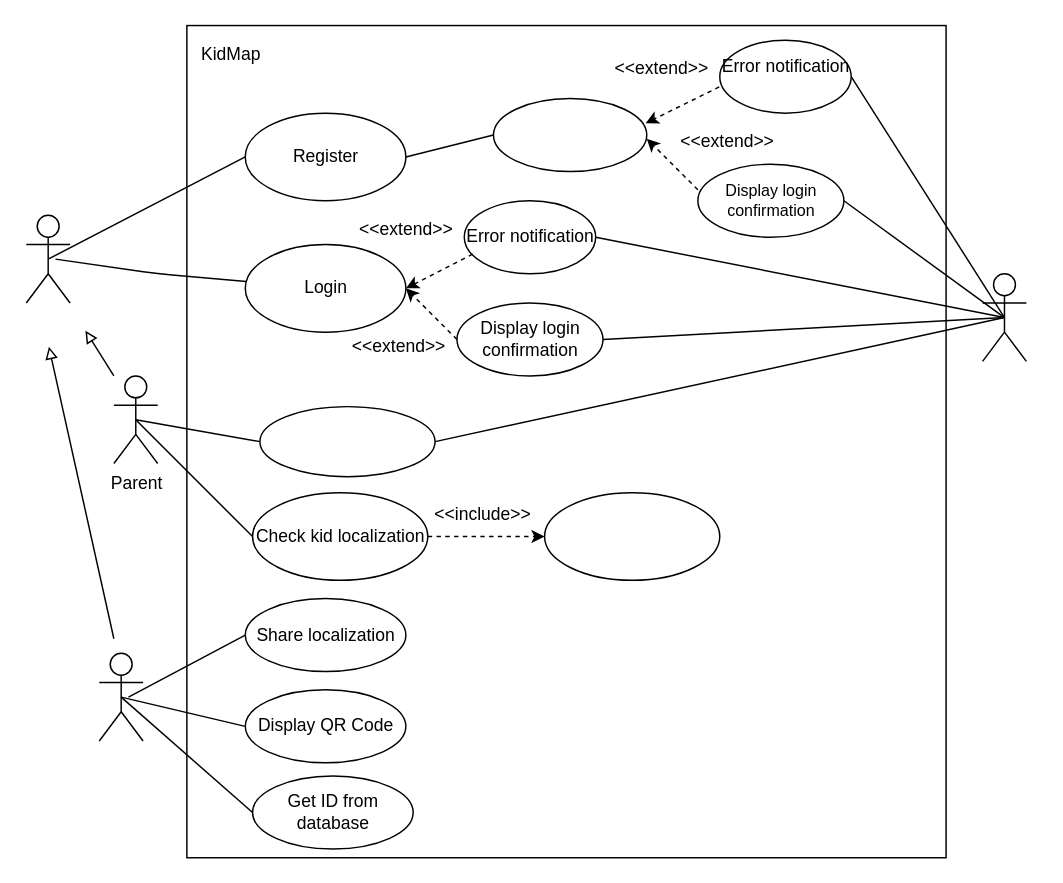
Image size: 1063x883. Some labels were removed from this diagram. Each missing label, with the box of its shape:
Choose account type: (492, 97, 647, 172)
Display localization notification: (543, 491, 720, 580)
Firebase: (981, 272, 1026, 361)
Kid: (98, 652, 143, 741)
Pair with kid: (258, 405, 435, 477)
